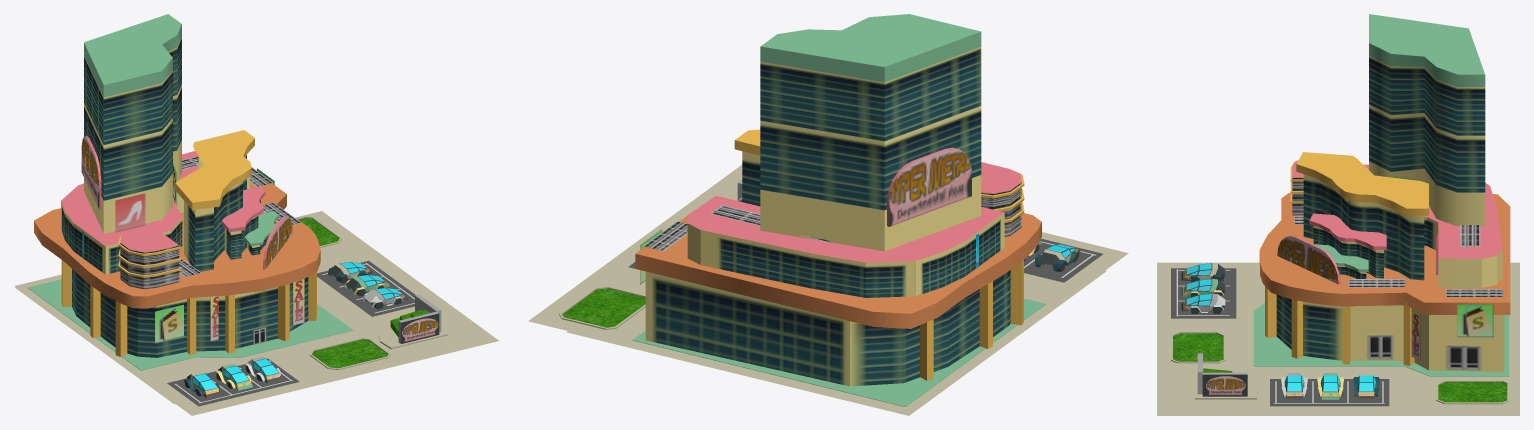
Rendered from departmentstore_LV2.fbx.
3 views of the same model, side by side, from view 1: azimuth 30°, elevation 25°; view 2: azimuth 150°, elevation 25°; view 3: azimuth 270°, elevation 25° (orthographic). The views are drawn at different scales.
Visible parts, largest first — view 1: mall level 2; view 2: mall level 2; view 3: mall level 2.
Part boxes in pixels (x1=…): mall level 2: x1=15, y1=14, x2=498, y2=415; mall level 2: x1=528, y1=14, x2=1128, y2=415; mall level 2: x1=1157, y1=14, x2=1519, y2=415.
Size of the model in its own units: 121 by 95.01 by 120.
